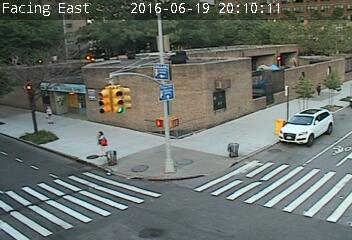neg: (143, 34, 155, 50), (273, 51, 284, 66), (101, 46, 111, 59), (283, 19, 288, 26)
pos: (90, 127, 113, 157), (39, 103, 57, 127), (311, 78, 324, 95)
